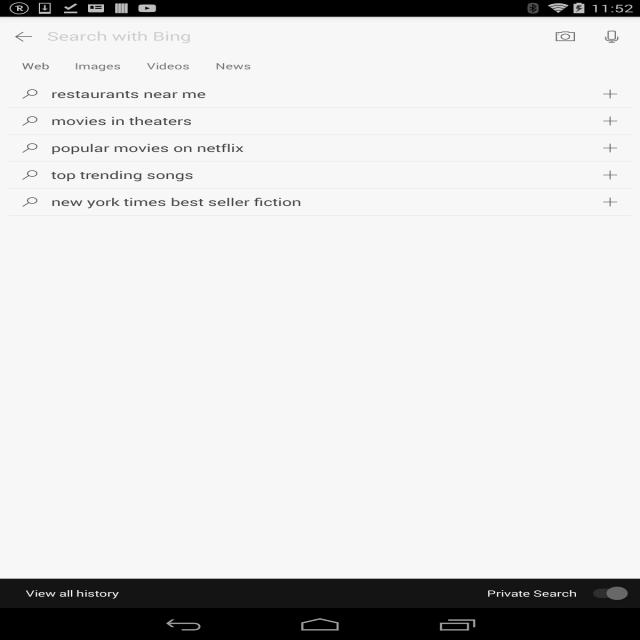Button: (17, 579, 487, 608), (62, 51, 134, 81), (134, 51, 203, 81), (203, 51, 264, 81), (8, 51, 62, 81), (0, 22, 47, 51), (542, 22, 589, 51), (589, 22, 636, 51), (589, 81, 631, 107), (589, 108, 631, 134), (589, 135, 631, 161), (589, 162, 631, 188), (589, 189, 631, 215)
EditText: (47, 22, 542, 50)
Switch: (582, 579, 632, 608)
TextView: (51, 87, 589, 101), (51, 114, 589, 128), (51, 141, 589, 155), (51, 168, 589, 182), (51, 195, 589, 209), (487, 579, 577, 608), (0, 22, 47, 51), (9, 81, 51, 107), (9, 108, 51, 134), (9, 135, 51, 161), (9, 162, 51, 188), (9, 189, 51, 215)
